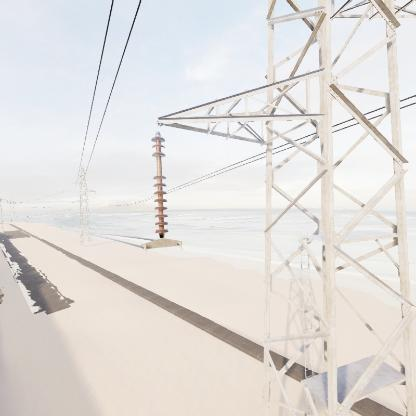insulator: (149, 132, 175, 238)
